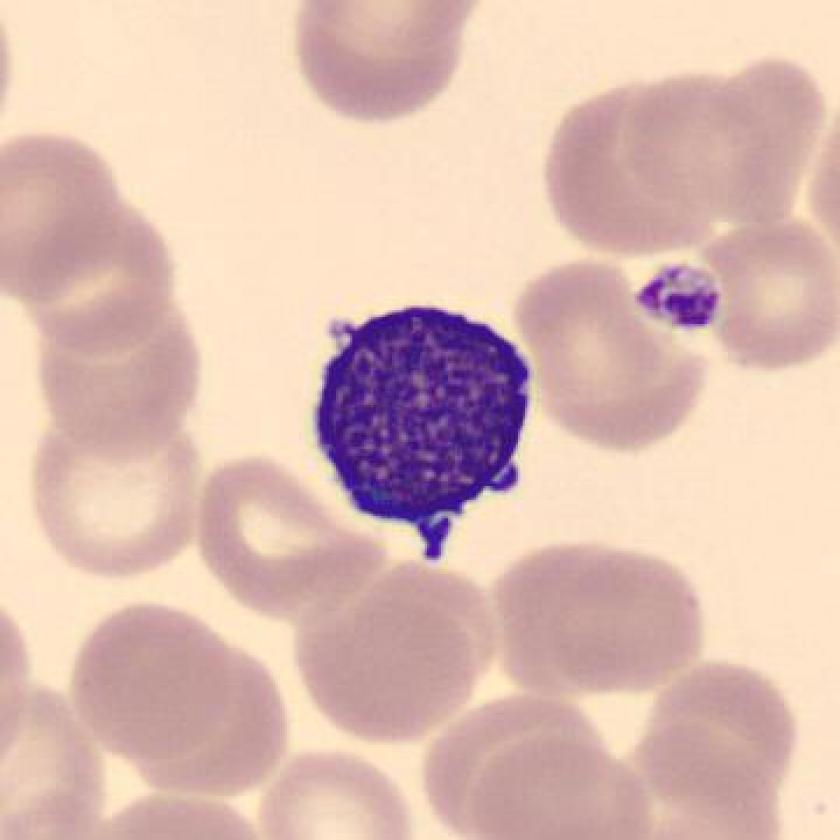lymphocyte: (305, 288, 557, 570)
